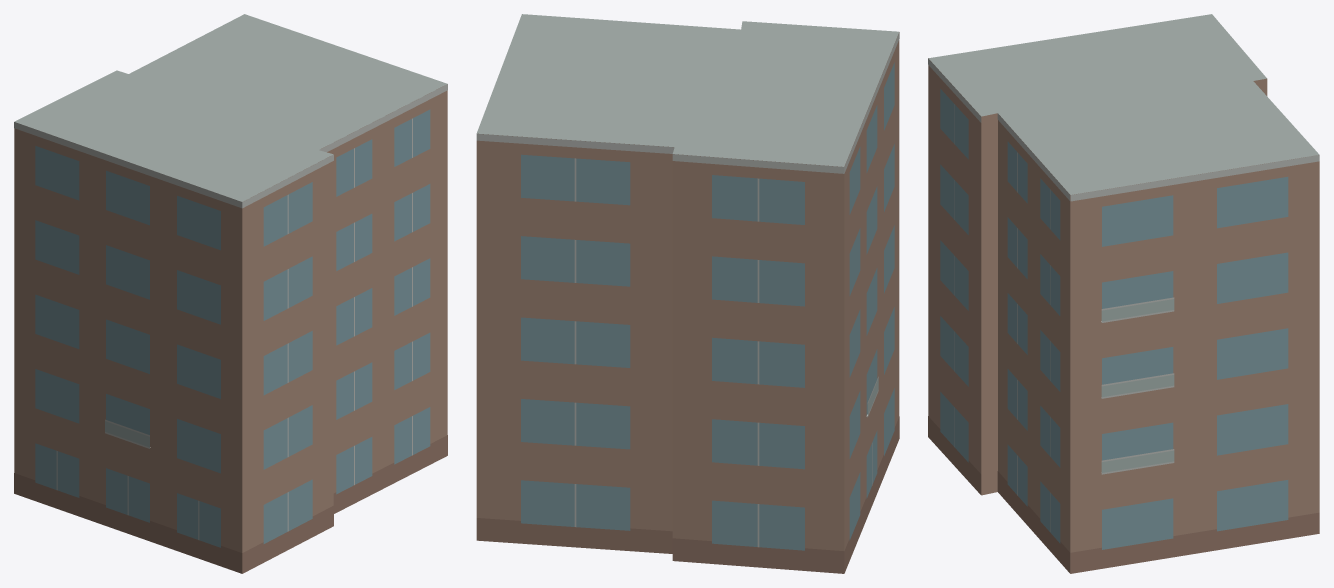
The model's file is survey-upis-32866421.glb.
3 renders of one model, left to right at view 1: azimuth 30°, elevation 25°; view 2: azimuth 150°, elevation 25°; view 3: azimuth 270°, elevation 25°, orthographic. The views are drawn at different scales.
Parts seen in each view (by area): view 1: survey-upis-32866421.tmp; view 2: survey-upis-32866421.tmp; view 3: survey-upis-32866421.tmp.
Boxes of the visible parts, bbox=[...] form: survey-upis-32866421.tmp: bbox=[14, 14, 447, 573]; survey-upis-32866421.tmp: bbox=[476, 14, 899, 573]; survey-upis-32866421.tmp: bbox=[928, 14, 1319, 573].
Bounding box in the file's own units: 14.56 × 14.2 × 13.31.
